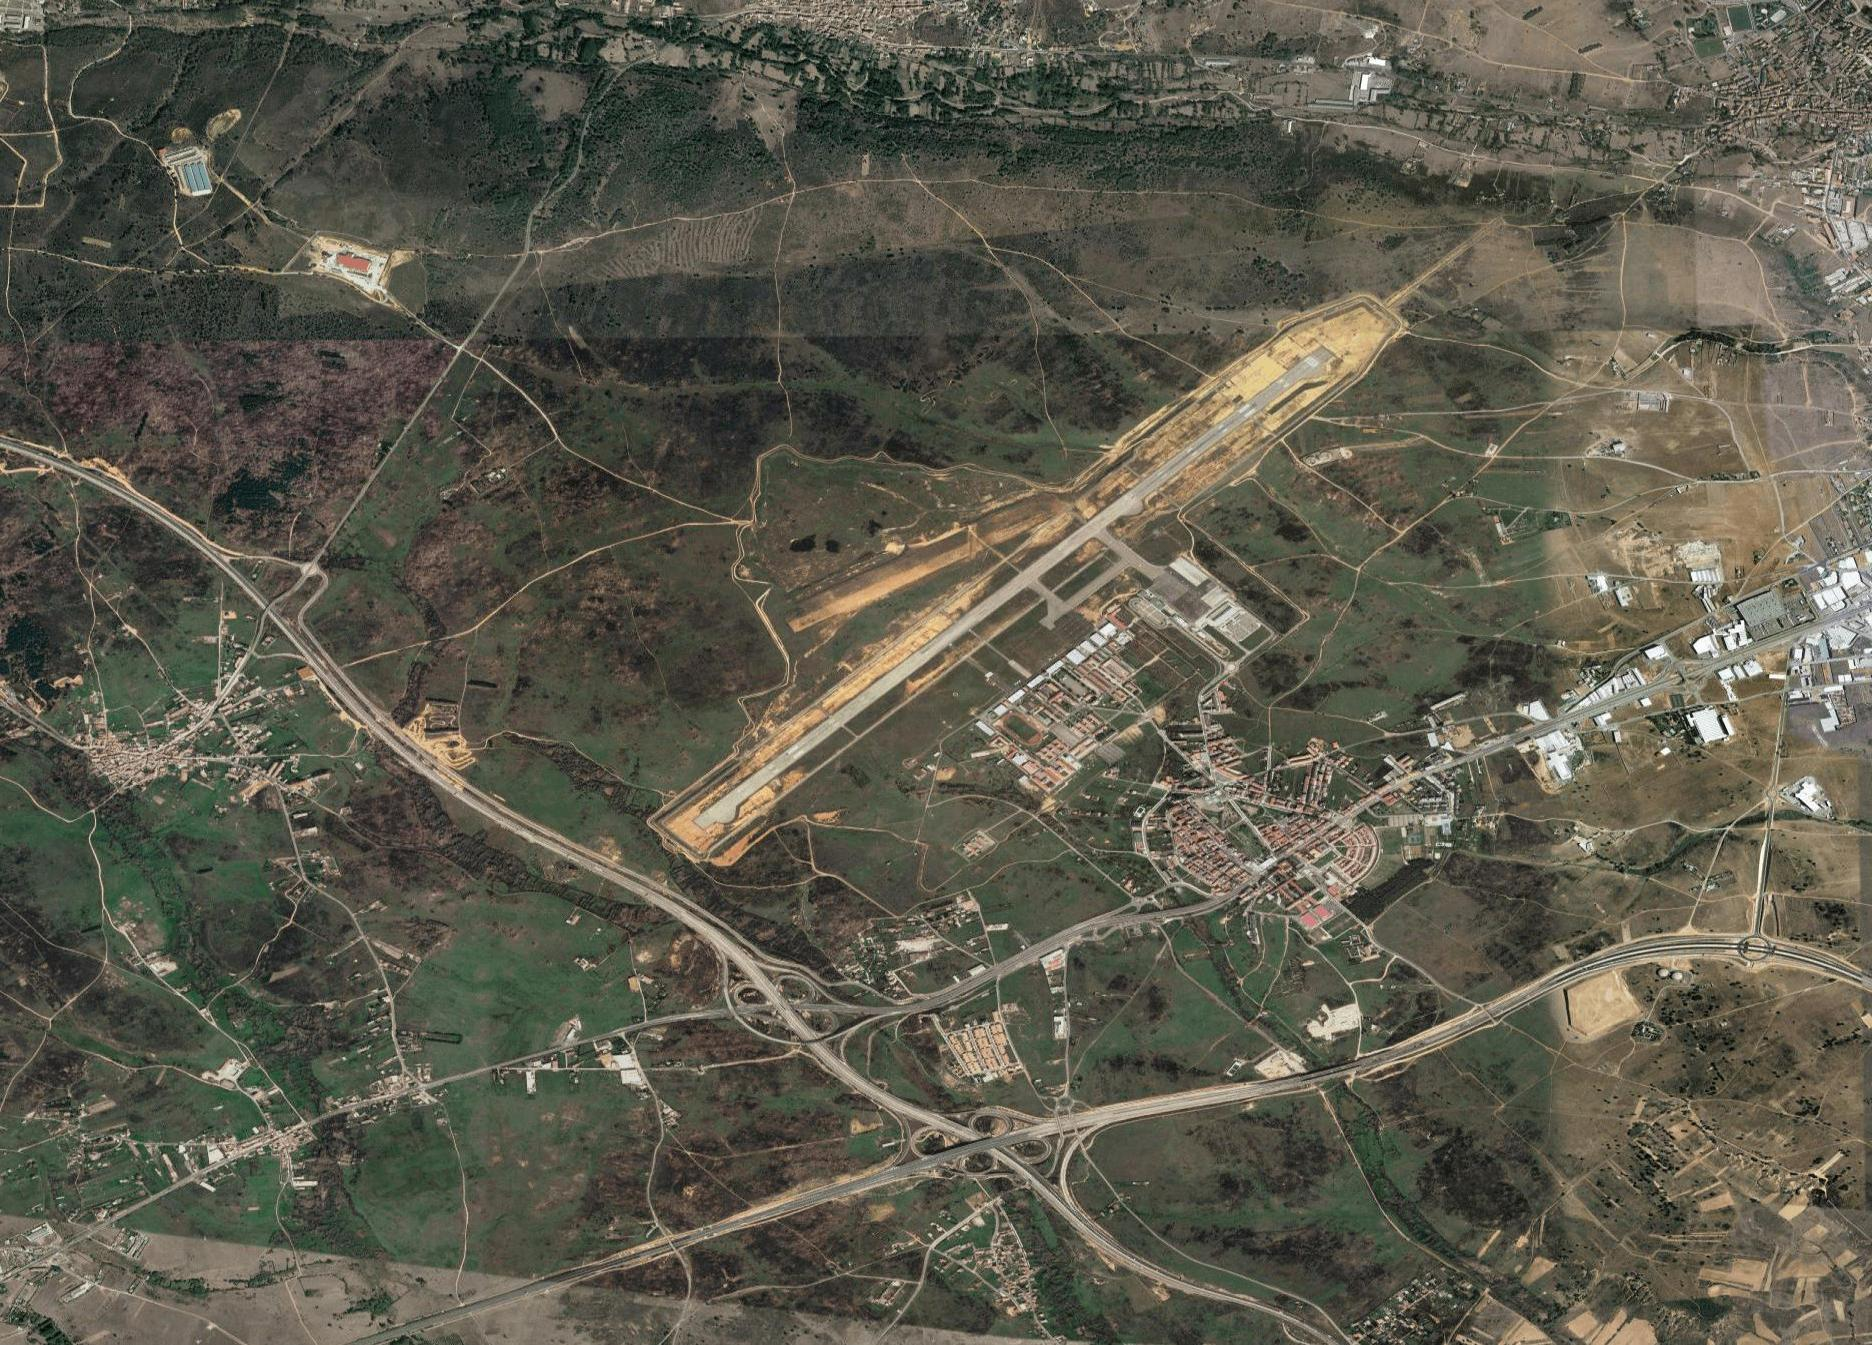airport: (682, 321, 1373, 833)
motorway: (876, 1088, 1044, 1181), (263, 609, 391, 730), (384, 726, 515, 832), (1, 438, 166, 512), (161, 510, 278, 611), (663, 904, 783, 999), (754, 996, 874, 1091), (517, 829, 661, 906), (1403, 977, 1532, 1061), (1227, 1045, 1400, 1104), (1049, 1077, 1222, 1133), (1530, 932, 1666, 993), (497, 1255, 625, 1309), (372, 1291, 500, 1345), (1030, 1172, 1116, 1252), (754, 1168, 879, 1221), (1113, 1248, 1222, 1309), (626, 1211, 751, 1264), (980, 920, 1090, 979), (868, 970, 987, 1021), (1222, 1296, 1340, 1345), (1666, 929, 1807, 965), (1092, 896, 1205, 939)
